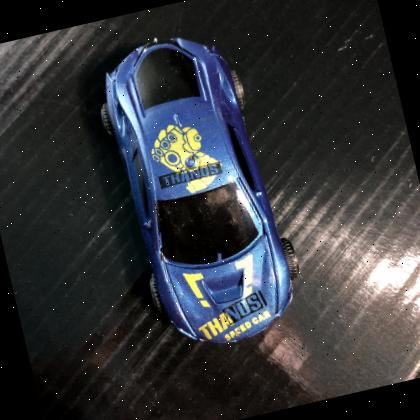Car: (79, 8, 319, 367)
